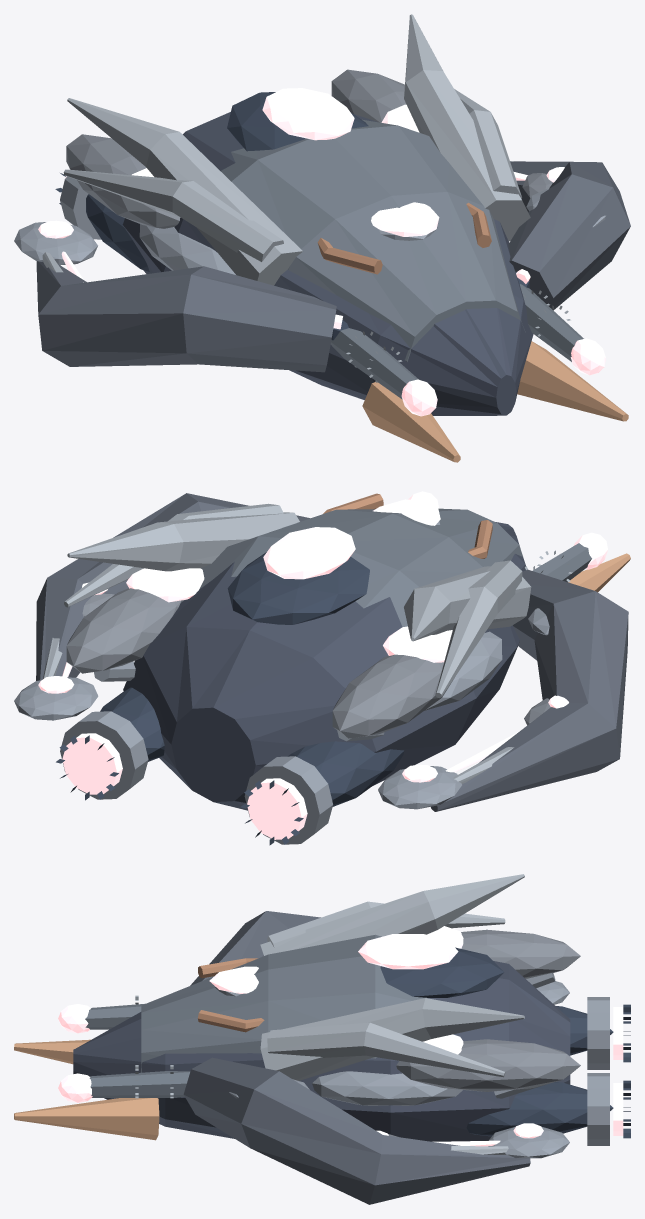
Rendered from npc_bossMordon.glb.
3 renders of one model, top to bottom at view 1: azimuth 30°, elevation 25°; view 2: azimuth 150°, elevation 25°; view 3: azimuth 270°, elevation 25°, orthographic. The views are drawn at different scales.
Parts seen in each view (by area): view 1: upper_armor_scar, armored_scythe_-1, keel_pressure_hull, armored_scythe_1, prime_arch_back_-1, prime_arch_back_1, kharon_battle_bridge_-1, kharon_reinforced_nacelle_-1, prime_secondary_horn_1, prime_emitter, prime_secondary_horn_-1, kharon_reinforced_nacelle_1 (+12 smaller); view 2: keel_pressure_hull, armored_scythe_-1, upper_armor_scar, prime_arch_back_1, kharon_reinforced_nacelle_-1, prime_reactor_tower, kharon_reinforced_nacelle_1, armored_scythe_1, prime_arch_back_-1, kharon_battle_bridge_-1, engine_armor_-1, prime_emitter (+21 smaller); view 3: armored_scythe_1, keel_pressure_hull, upper_armor_scar, prime_arch_back_-1, prime_arch_back_1, kharon_battle_bridge_1, kharon_reinforced_nacelle_1, engine_armor_1, prime_secondary_horn_1, heavy_shield_pad_1, prime_reactor_tower, kharon_reinforced_nacelle_-1 (+19 smaller).
Boxes of the visible parts, left/top/right/bottom form: upper_armor_scar: left=220, top=119, right=525, bottom=362; armored_scythe_-1: left=36, top=261, right=336, bottom=372; keel_pressure_hull: left=122, top=112, right=533, bottom=415; armored_scythe_1: left=508, top=161, right=630, bottom=310; prime_arch_back_-1: left=67, top=98, right=302, bottom=285; prime_arch_back_1: left=404, top=14, right=530, bottom=241; kharon_battle_bridge_-1: left=63, top=169, right=283, bottom=261; kharon_reinforced_nacelle_-1: left=66, top=134, right=180, bottom=228; prime_secondary_horn_1: left=517, top=341, right=628, bottom=421; prime_emitter: left=262, top=88, right=354, bottom=140; prime_secondary_horn_-1: left=362, top=382, right=460, bottom=462; kharon_reinforced_nacelle_1: left=331, top=69, right=406, bottom=122; keel_pressure_hull: left=123, top=522, right=525, bottom=810; armored_scythe_-1: left=431, top=569, right=628, bottom=811; upper_armor_scar: left=181, top=508, right=525, bottom=626; prime_arch_back_1: left=67, top=512, right=299, bottom=571; kharon_reinforced_nacelle_-1: left=332, top=654, right=454, bottom=738; prime_reactor_tower: left=227, top=552, right=369, bottom=624; kharon_reinforced_nacelle_1: left=66, top=588, right=181, bottom=673; armored_scythe_1: left=36, top=493, right=310, bottom=680; prime_arch_back_-1: left=404, top=566, right=531, bottom=641; kharon_battle_bridge_-1: left=435, top=560, right=522, bottom=698; engine_armor_-1: left=287, top=741, right=404, bottom=806; prime_emitter: left=263, top=527, right=355, bottom=579; armored_scythe_1: left=183, top=1057, right=530, bottom=1204; keel_pressure_hull: left=73, top=961, right=570, bottom=1146; upper_armor_scar: left=141, top=934, right=426, bottom=1072; prime_arch_back_-1: left=260, top=874, right=524, bottom=955; prime_arch_back_1: left=260, top=998, right=524, bottom=1080; kharon_battle_bridge_1: left=267, top=1022, right=505, bottom=1077; kharon_reinforced_nacelle_1: left=396, top=1039, right=580, bottom=1091; engine_armor_1: left=466, top=1082, right=613, bottom=1136; prime_secondary_horn_1: left=14, top=1098, right=159, bottom=1140; heavy_shield_pad_1: left=312, top=1071, right=462, bottom=1105; prime_reactor_tower: left=380, top=947, right=504, bottom=997; kharon_reinforced_nacelle_-1: left=461, top=929, right=580, bottom=978.
Size of the model in its own units: 3.98 by 1.51 by 4.34.
